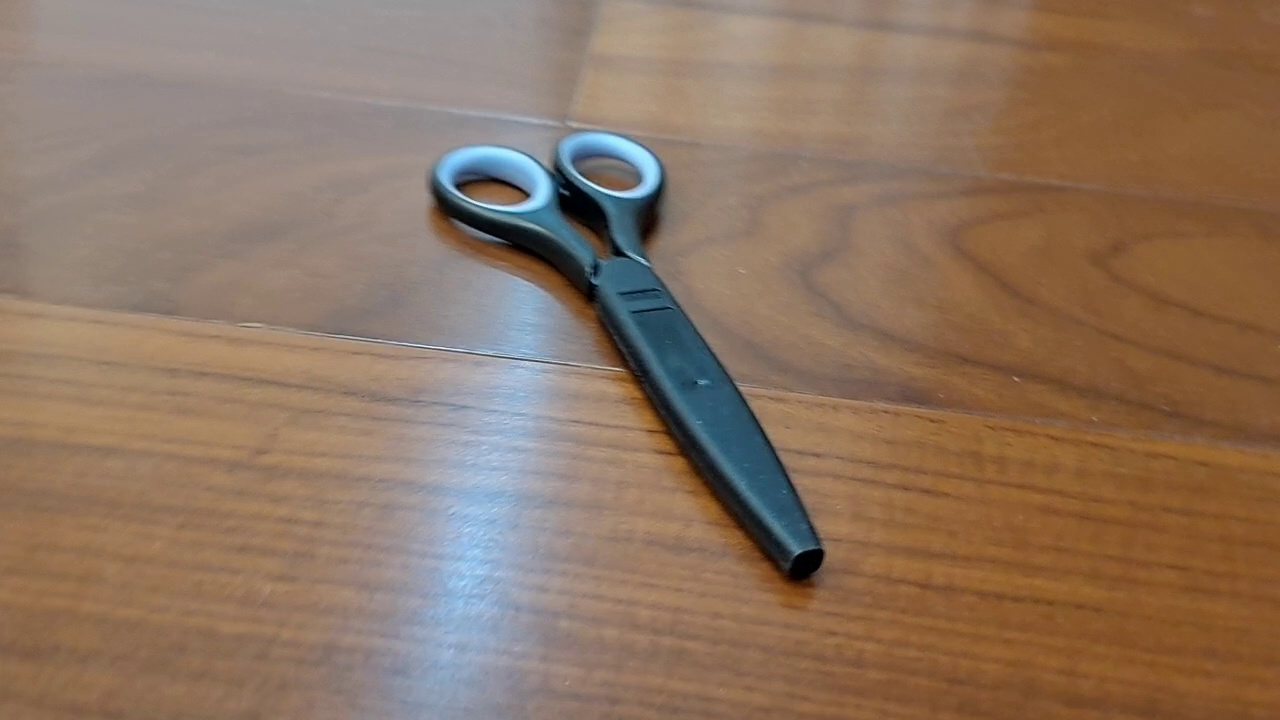scissors: (427, 128, 825, 581)
